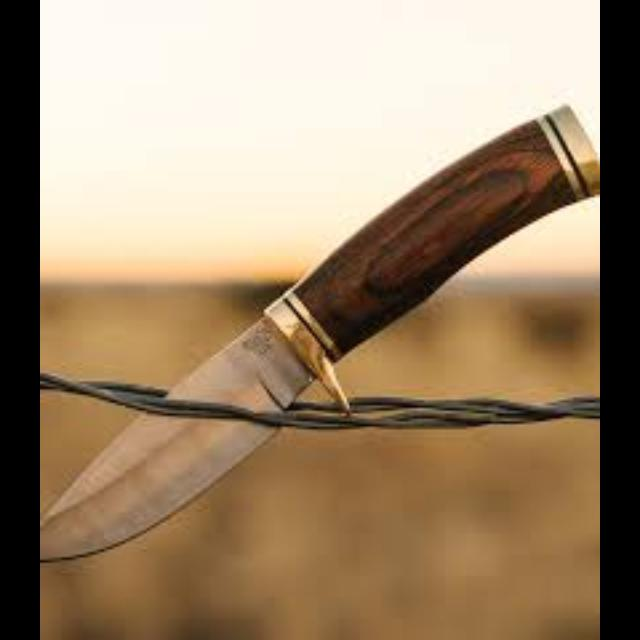Knife: (40, 99, 598, 563)
